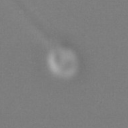normal: (10, 1, 58, 48)
